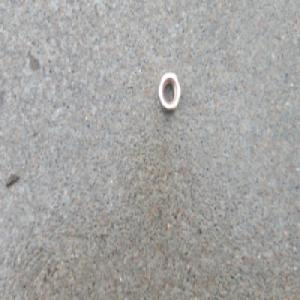Nut: (158, 72, 181, 112)
